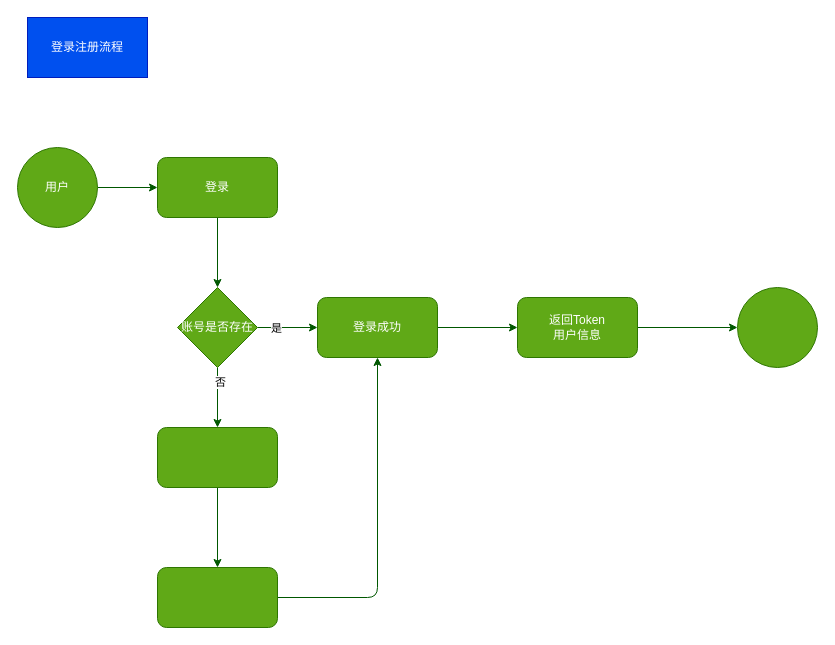
The diagram is 835 pixels wide and 645 high, and some of its shapes have lost their labels. Each missing label, with the box of its shape:
提示注册: (156, 426, 278, 488)
注册完成: (156, 566, 278, 628)
结束: (736, 286, 818, 368)
